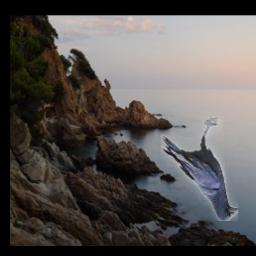Crow: (161, 116, 238, 221)
